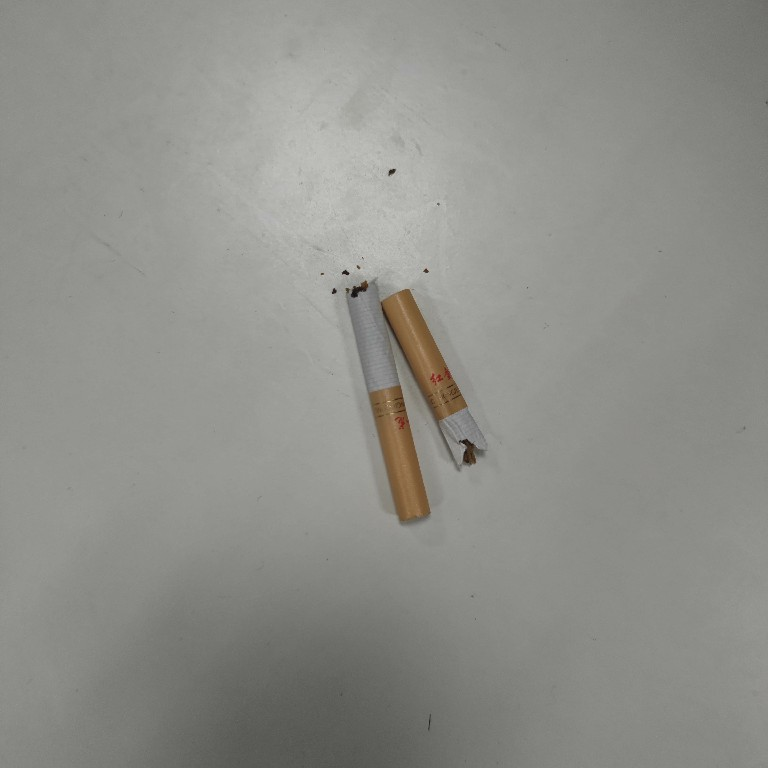cigarette: (344, 278, 435, 528), (380, 285, 493, 474)
